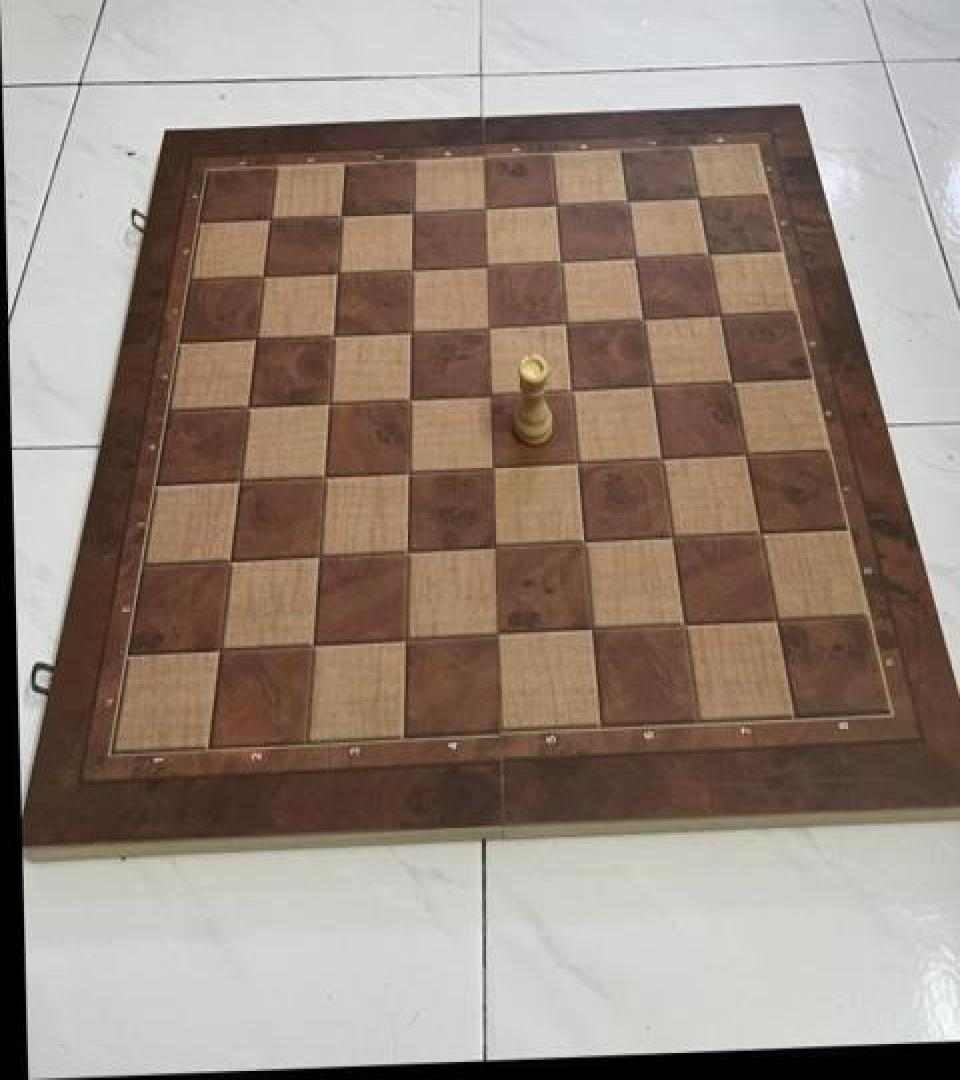xcorner: (216, 543, 248, 580), (484, 616, 516, 653), (680, 181, 712, 217), (609, 184, 641, 220), (538, 188, 570, 224), (467, 191, 499, 227), (324, 199, 356, 235), (252, 202, 284, 238), (691, 238, 723, 274), (617, 241, 649, 277), (543, 245, 575, 281), (469, 248, 501, 284), (395, 252, 427, 288), (320, 256, 352, 292), (246, 260, 278, 296), (702, 298, 734, 334), (626, 302, 658, 338), (549, 306, 581, 342), (471, 310, 503, 346), (394, 314, 426, 350), (317, 318, 349, 354), (239, 322, 271, 358), (715, 364, 747, 400), (635, 369, 667, 405), (554, 374, 586, 410), (474, 377, 506, 413), (394, 382, 426, 418), (313, 385, 345, 421), (232, 389, 264, 425), (728, 436, 760, 472), (645, 441, 677, 477), (477, 450, 509, 486), (393, 454, 425, 490), (309, 459, 341, 495), (224, 462, 256, 498), (743, 515, 775, 551), (656, 520, 688, 556), (568, 526, 600, 562), (480, 530, 512, 566), (392, 534, 424, 570), (304, 539, 336, 575), (760, 602, 792, 638), (668, 608, 700, 644), (576, 612, 608, 648), (391, 622, 423, 658), (299, 626, 331, 662), (206, 631, 238, 667), (395, 195, 427, 230), (561, 446, 593, 481)
